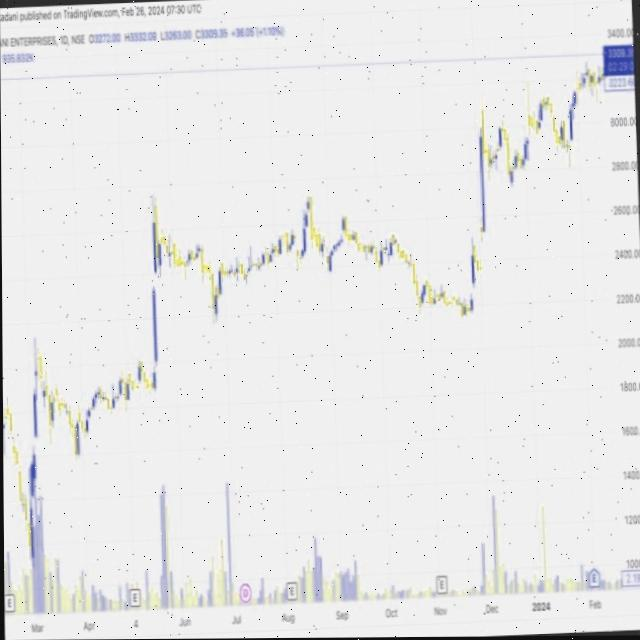Gap Down: (288, 228, 304, 270)
Gap Up: (147, 220, 161, 376), (30, 388, 39, 491), (468, 256, 476, 315), (476, 228, 485, 274)
